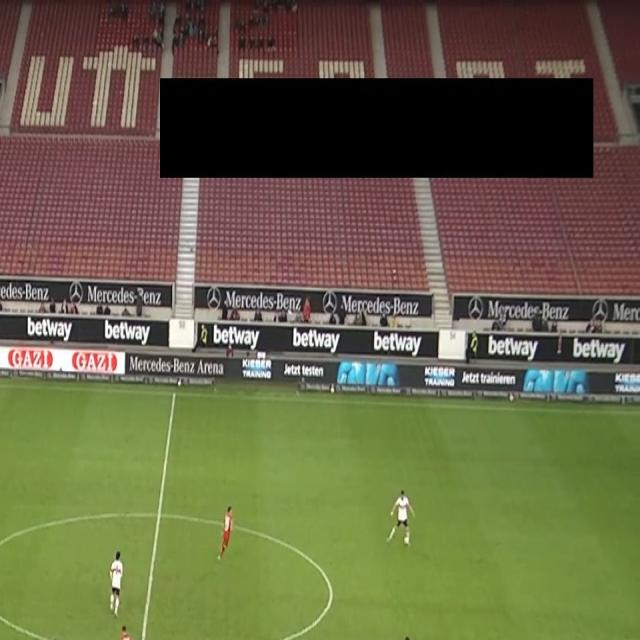ball: (402, 532, 410, 548)
